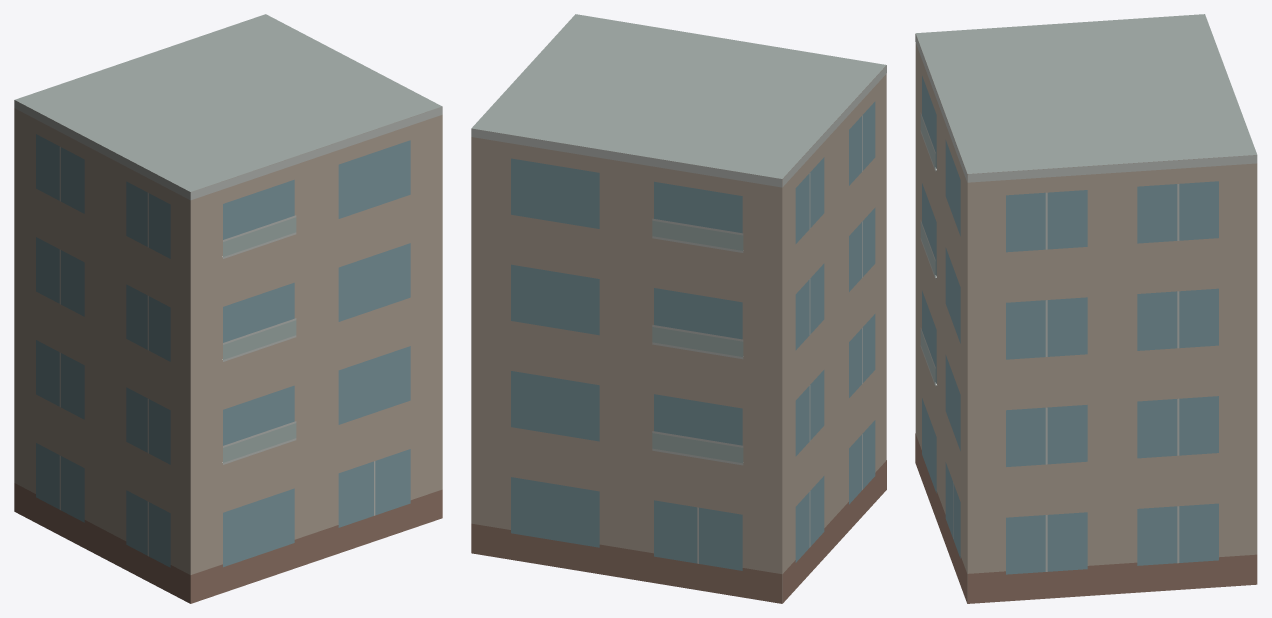
File: residential-1fcb3a91-a96b-40a9-9efe-2216993a251c.glb
The picture shows the model from 3 angles, left to right: view 1: azimuth 30°, elevation 25°; view 2: azimuth 150°, elevation 25°; view 3: azimuth 270°, elevation 25°; orthographic projection. The views are drawn at different scales.
Parts seen in each view (by area): view 1: residential-1fcb3a91-a96b-40a9-9efe-2216993a251c.tmp; view 2: residential-1fcb3a91-a96b-40a9-9efe-2216993a251c.tmp; view 3: residential-1fcb3a91-a96b-40a9-9efe-2216993a251c.tmp.
Boxes of the visible parts, x1,y1,x2,y2 form: residential-1fcb3a91-a96b-40a9-9efe-2216993a251c.tmp: (14, 14, 442, 603); residential-1fcb3a91-a96b-40a9-9efe-2216993a251c.tmp: (471, 14, 886, 603); residential-1fcb3a91-a96b-40a9-9efe-2216993a251c.tmp: (915, 14, 1257, 603).
Size of the model in its own units: 9.76 by 12.2 by 8.81.
